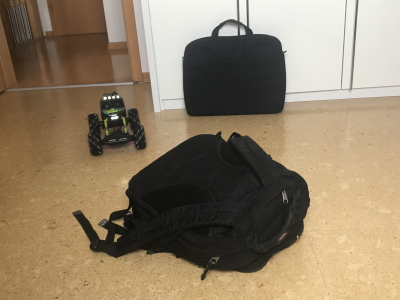remote control car: (81, 90, 148, 156)
